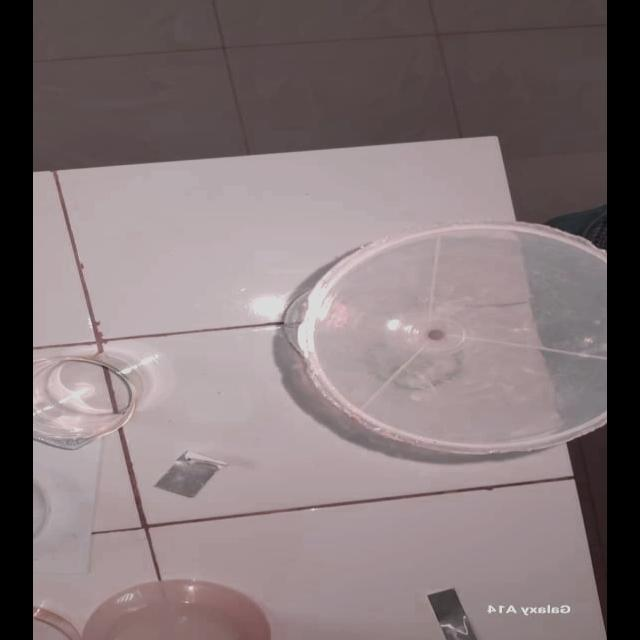Funnel: (294, 219, 604, 463)
